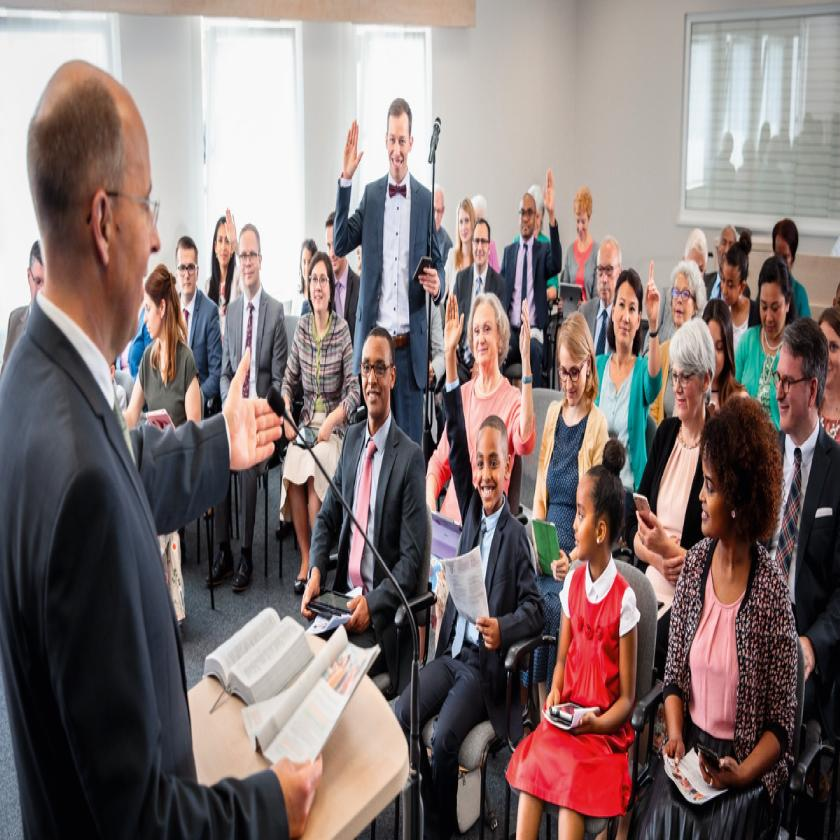Sin_casco: (21, 53, 162, 382), (696, 402, 778, 580), (574, 456, 626, 586), (775, 307, 825, 439), (670, 320, 716, 425), (142, 258, 177, 360), (475, 416, 511, 513), (359, 328, 394, 425), (471, 290, 507, 383), (559, 310, 592, 408), (614, 265, 643, 359), (761, 257, 792, 341), (385, 94, 412, 180), (173, 234, 202, 300), (308, 252, 336, 318), (597, 237, 621, 312), (721, 248, 750, 308), (238, 219, 260, 289), (672, 266, 699, 323), (820, 306, 840, 380), (215, 209, 236, 277), (573, 189, 594, 248), (475, 221, 492, 275), (459, 196, 475, 251), (519, 197, 535, 242)
